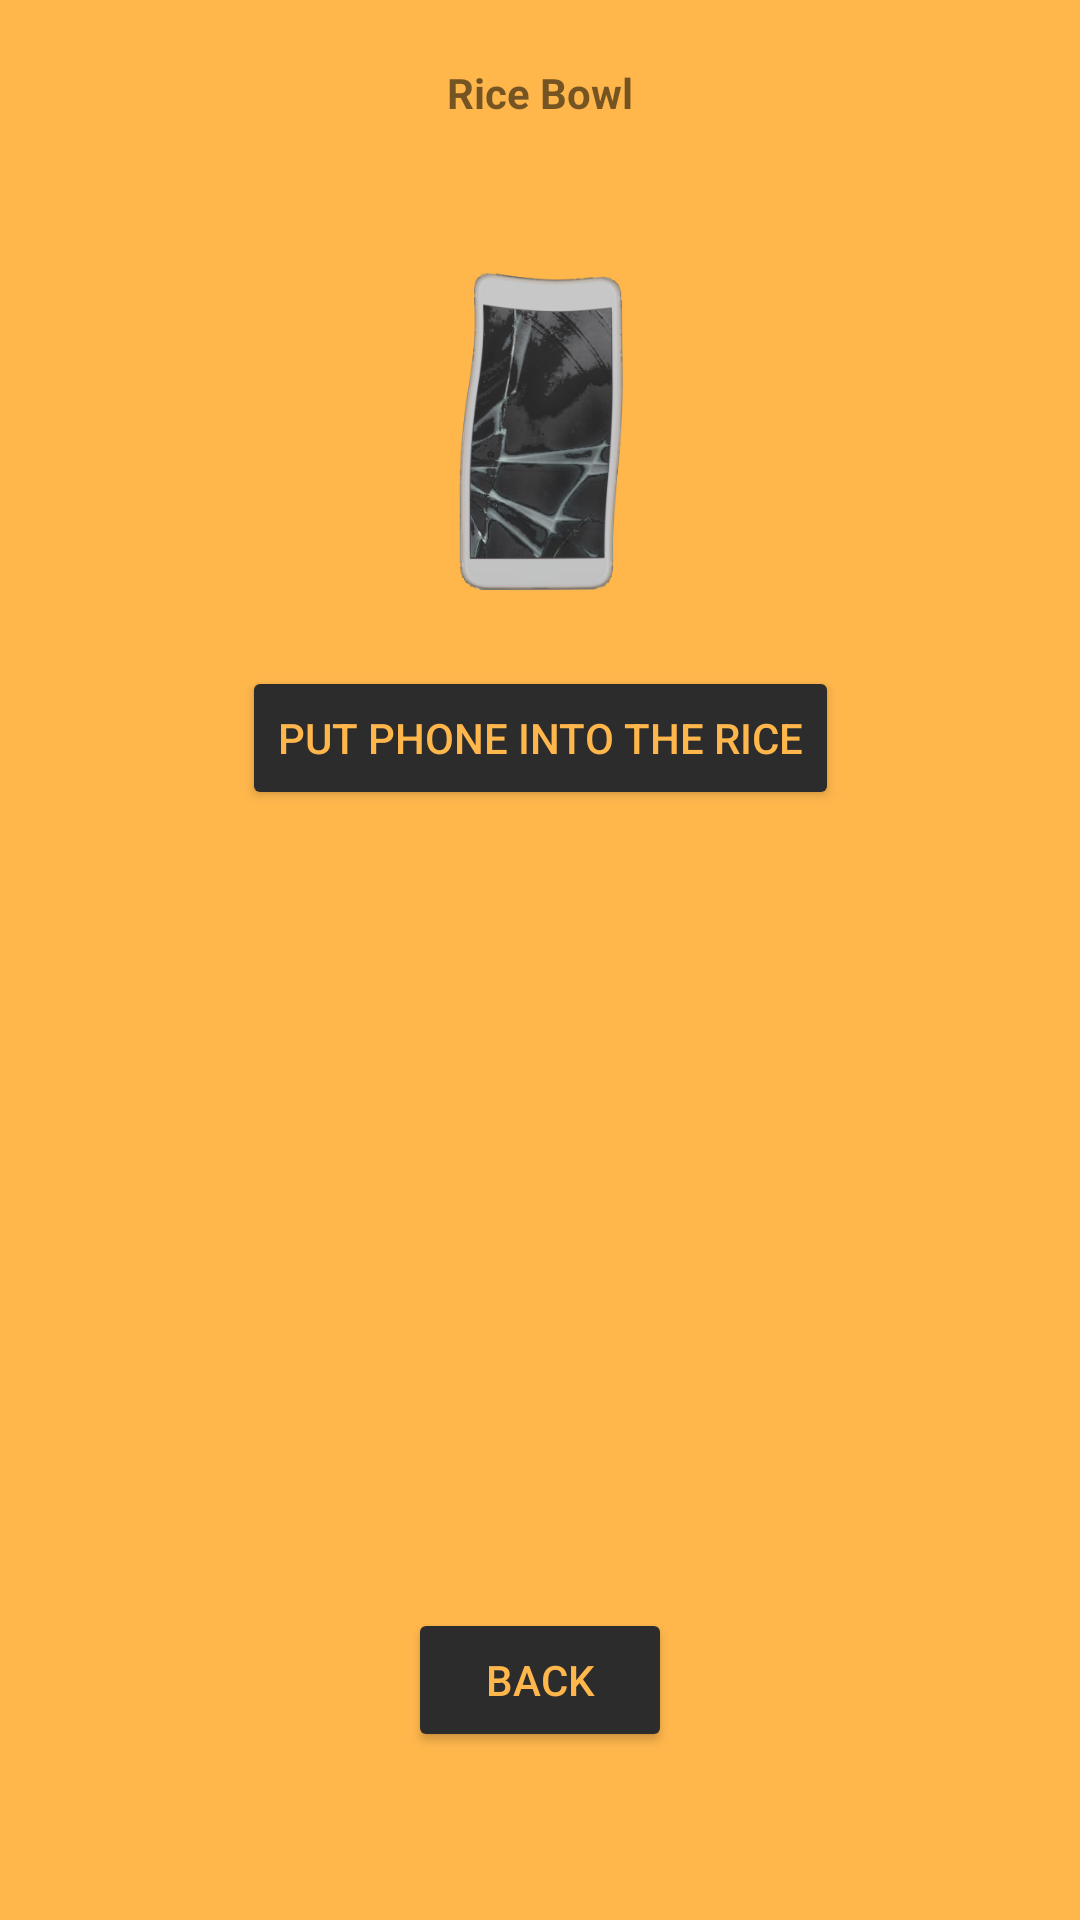

Icons on this 1080px×1920px Android screen, each with the point to tap as point (x, y):
demo phone broken: point (541, 431)
